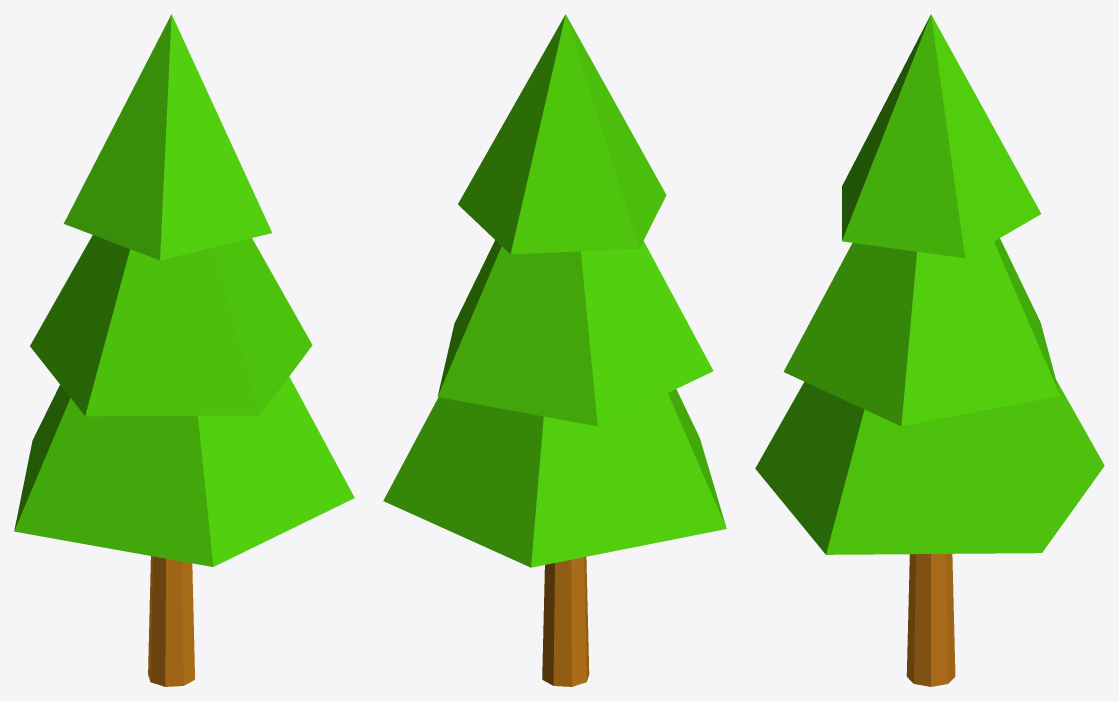
File: fur_tree.glb
3 views of the same model, side by side, from view 1: azimuth 30°, elevation 25°; view 2: azimuth 150°, elevation 25°; view 3: azimuth 270°, elevation 25° (orthographic).
Visible parts, largest first — view 1: lod0; view 2: lod0; view 3: lod0.
Boxes of the visible parts, box(x1,y1,x2,y2) form: lod0: box(14, 14, 354, 686); lod0: box(383, 14, 726, 686); lod0: box(755, 14, 1104, 686).
Size of what is drawn, in the model's own units: 1.61 by 3.51 by 1.68.
